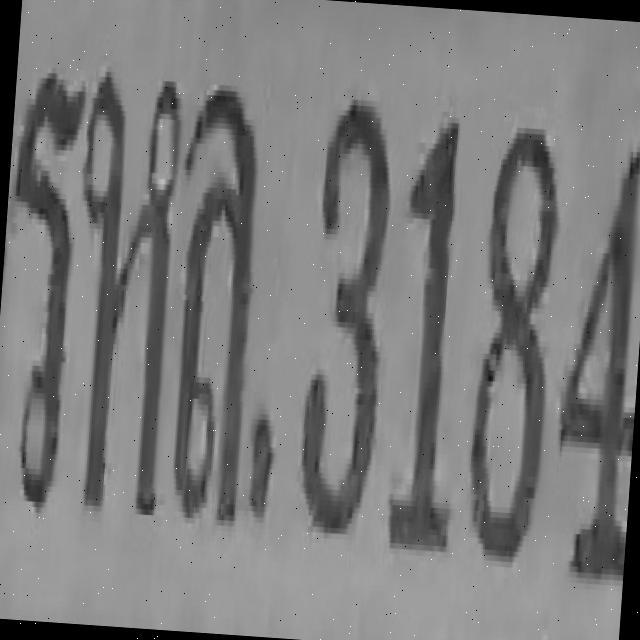1: (383, 106, 475, 554)
3: (292, 90, 398, 538)
4: (547, 136, 640, 580)
44RorRuea: (0, 65, 88, 513)
50HorHeep: (60, 68, 186, 518)
8: (460, 114, 564, 564)
